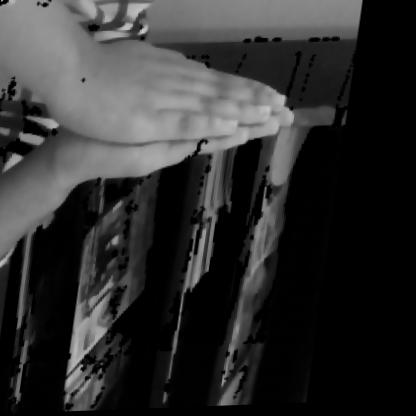namaste: (0, 0, 329, 217)
